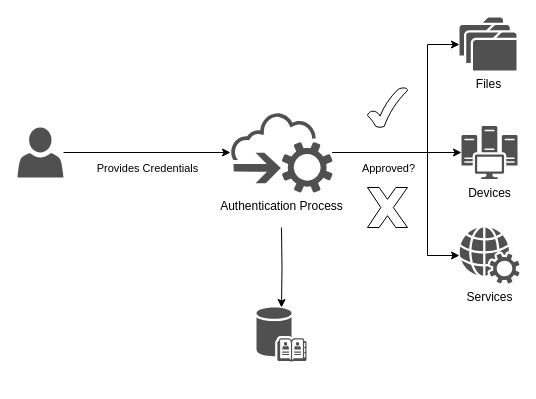
The diagram is 536 pixels wide and 399 high, and some of its shapes have lost their labels. Here are the shapes that lost their labels. From the top down, the box of each, then its label:
(17, 127, 63, 177): User
(256, 307, 306, 361): User Database
